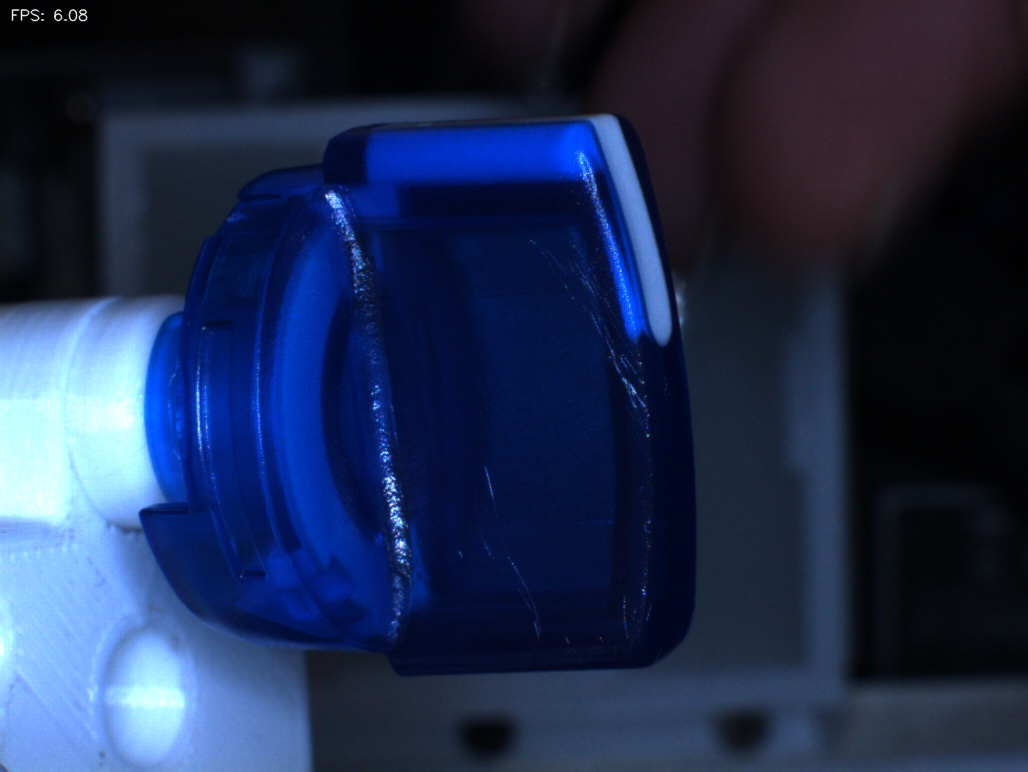Givrage: (452, 466, 563, 650), (552, 277, 646, 405), (603, 566, 665, 654)
